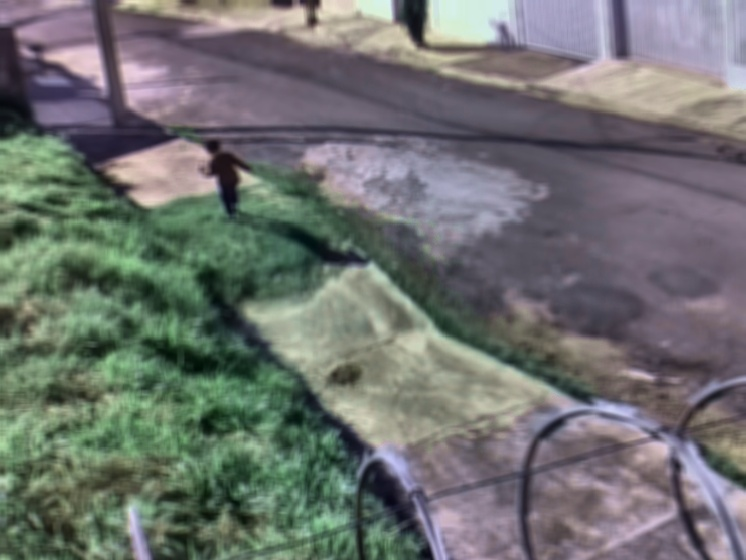person: (197, 139, 250, 222)
